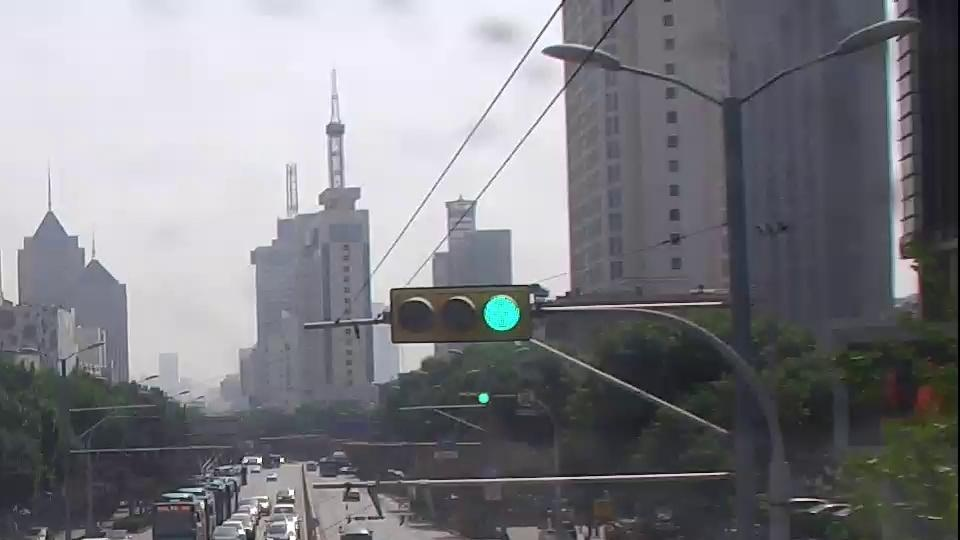green: (481, 291, 523, 332), (477, 391, 491, 404)
